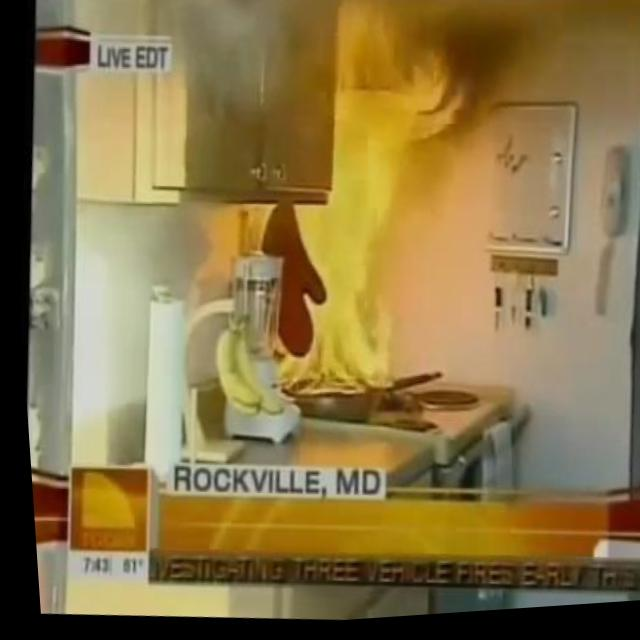fire: (218, 0, 496, 415)
